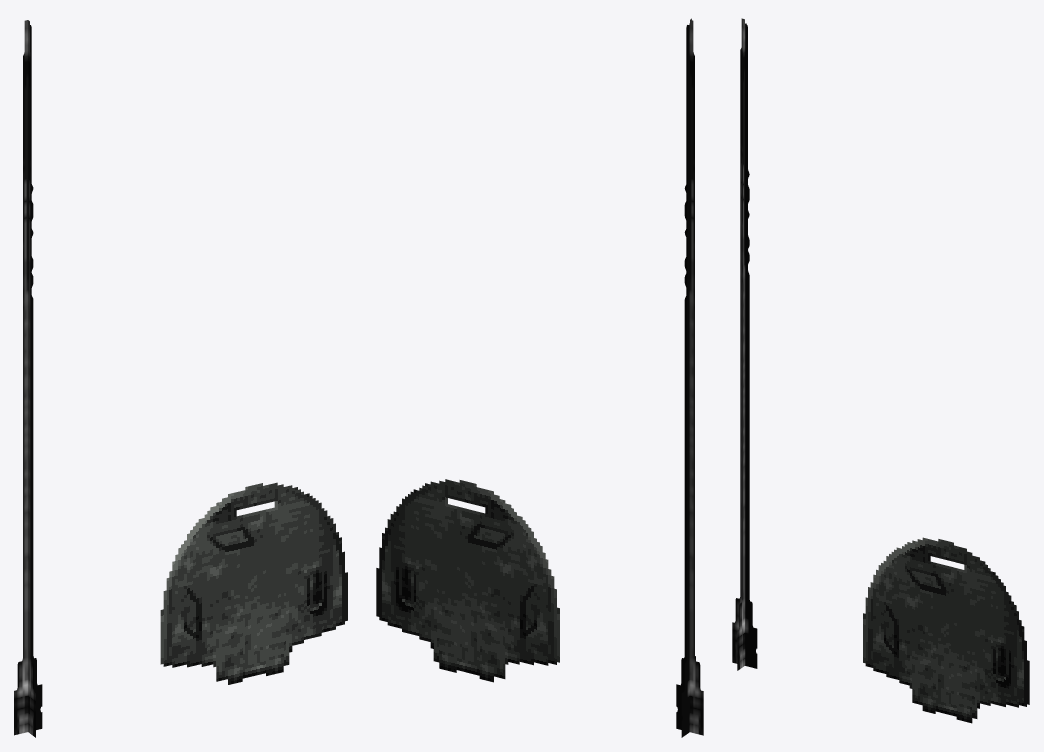
The model's file is secondary_008.glb.
The picture shows the model from 3 angles, left to right: view 1: azimuth 30°, elevation 25°; view 2: azimuth 150°, elevation 25°; view 3: azimuth 330°, elevation 25°; orthographic projection. The views are drawn at different scales.
Visible parts, largest first — view 1: Object; view 2: Object; view 3: Object.
Boxes of the visible parts, box(x1,y1,x2,y2) form: Object: box(14, 20, 347, 737); Object: box(376, 18, 703, 737); Object: box(732, 18, 1029, 723).
Size of the model in its own units: 1.16 by 2.39 by 0.0975.
2 materials, 2 textured.
